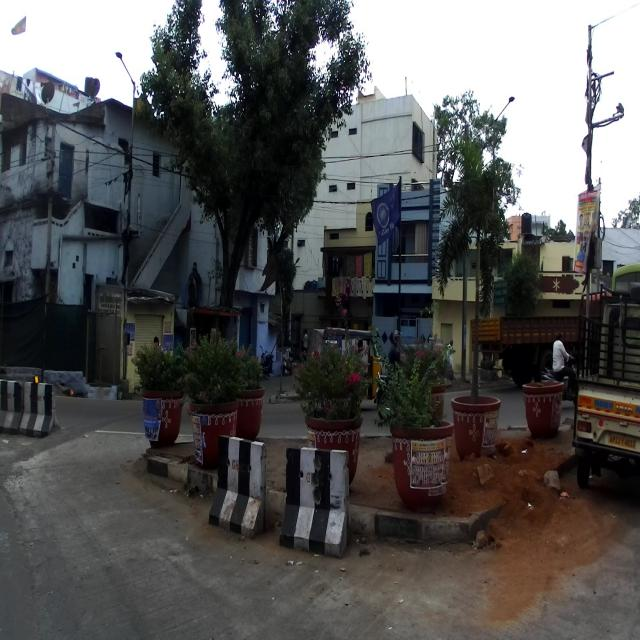autorickshaw: (321, 327, 388, 413)
truck: (469, 290, 611, 394)
